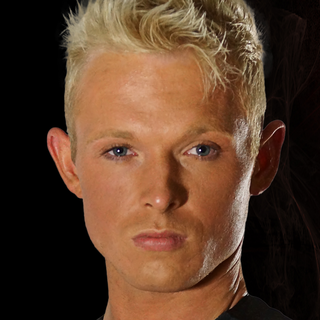eye: (175, 139, 227, 163), (97, 142, 142, 166)
